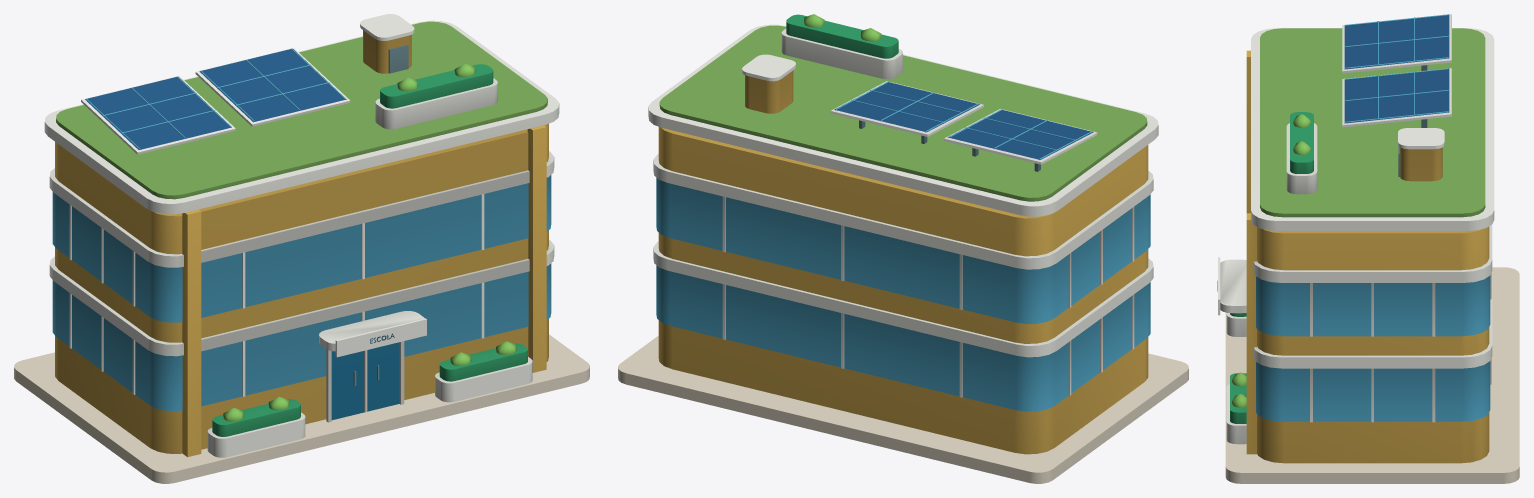
Rendered from school-low.glb.
3 renders of one model, left to right at view 1: azimuth 30°, elevation 25°; view 2: azimuth 150°, elevation 25°; view 3: azimuth 270°, elevation 25°, orthographic. The views are drawn at different scales.
Visible parts, largest first — view 1: school warm shell, continuous blue glazing, glass vertical mullion, green roof, school plaza, photovoltaic cells, planter foliage, recessed entrance, shrub tip, roof access hatch; view 2: continuous blue glazing, school warm shell, glass vertical mullion, green roof, school plaza, photovoltaic cells, planter foliage; view 3: green roof, school warm shell, continuous blue glazing, glass vertical mullion, school plaza, photovoltaic cells, planter foliage, shrub tip.
Part boxes in pixels (x1=…): school warm shell: x1=55, y1=30, x2=548, y2=457; continuous blue glazing: x1=52, y1=48, x2=551, y2=411; glass vertical mullion: x1=44, y1=14, x2=559, y2=457; green roof: x1=56, y1=21, x2=547, y2=199; school plaza: x1=14, y1=334, x2=589, y2=483; photovoltaic cells: x1=85, y1=49, x2=346, y2=149; planter foliage: x1=212, y1=64, x2=527, y2=436; recessed entrance: x1=331, y1=342, x2=399, y2=420; shrub tip: x1=223, y1=63, x2=516, y2=421; roof access hatch: x1=353, y1=44, x2=408, y2=385; continuous blue glazing: x1=656, y1=81, x2=1150, y2=411; school warm shell: x1=658, y1=70, x2=1148, y2=454; glass vertical mullion: x1=648, y1=24, x2=1158, y2=397; green roof: x1=659, y1=25, x2=1147, y2=201; school plaza: x1=618, y1=335, x2=1188, y2=483; photovoltaic cells: x1=834, y1=82, x2=1093, y2=159; planter foliage: x1=786, y1=14, x2=898, y2=58; green roof: x1=1260, y1=28, x2=1485, y2=217; school warm shell: x1=1246, y1=50, x2=1489, y2=463; continuous blue glazing: x1=1256, y1=14, x2=1490, y2=421; glass vertical mullion: x1=1218, y1=14, x2=1494, y2=444; school plaza: x1=1225, y1=267, x2=1519, y2=483; photovoltaic cells: x1=1344, y1=14, x2=1449, y2=123; planter foliage: x1=1230, y1=112, x2=1313, y2=423; shrub tip: x1=1232, y1=114, x2=1310, y2=407.
Size of the model in its own units: 4.8 by 3.26 by 2.98.
